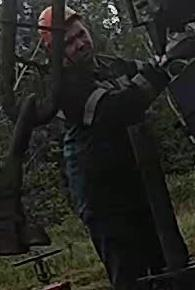gloves: (153, 17, 194, 80)
helmet: (36, 3, 83, 47)
vest: (50, 65, 164, 215)
